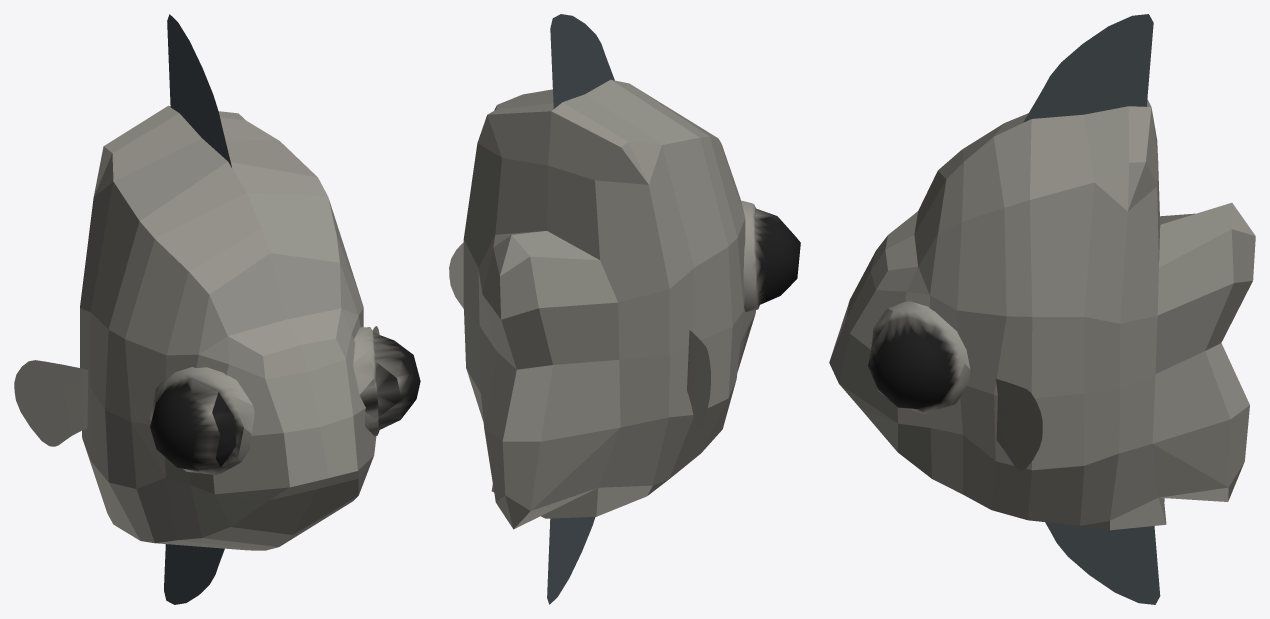
The model's file is fish_asset_v10.fbx.
3 renders of one model, left to right at view 1: azimuth 30°, elevation 25°; view 2: azimuth 150°, elevation 25°; view 3: azimuth 270°, elevation 25°, orthographic.
Parts seen in each view (by area): view 1: fish_rank3_Sunfish; view 2: fish_rank3_Sunfish; view 3: fish_rank3_Sunfish.
Boxes of the visible parts, x1=… form: fish_rank3_Sunfish: x1=14, y1=14, x2=420, y2=604; fish_rank3_Sunfish: x1=449, y1=14, x2=800, y2=604; fish_rank3_Sunfish: x1=829, y1=14, x2=1255, y2=604.
Bounding box in the file's own units: 325 × 581 × 380.
